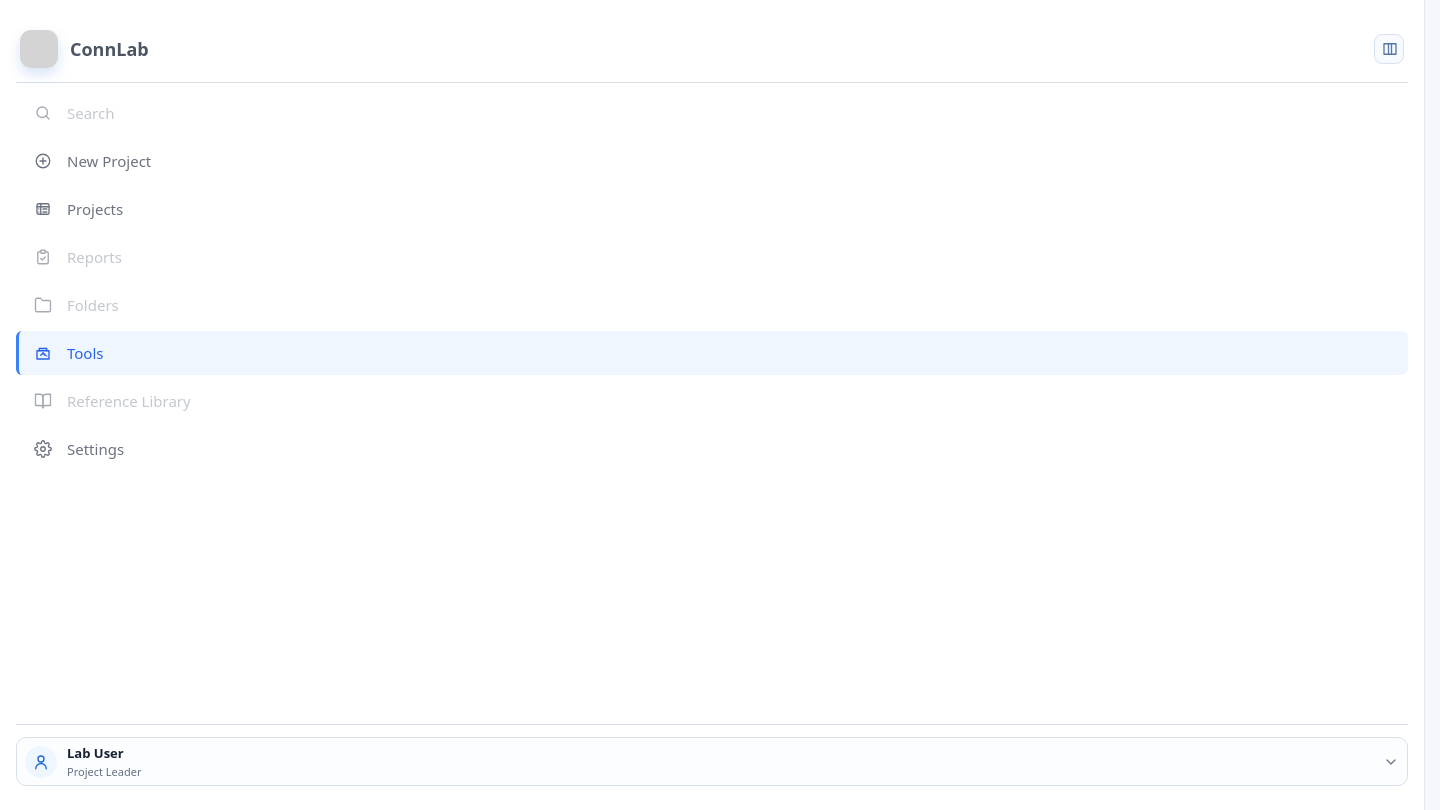
Sidebar interaction lock › opens the name editor directly and returns focus to the avatar after native Escape
The image size is (1440, 810).
Click the button "Lab User Project Leader". click: click(41, 762)
box: [16,737,1408,786]
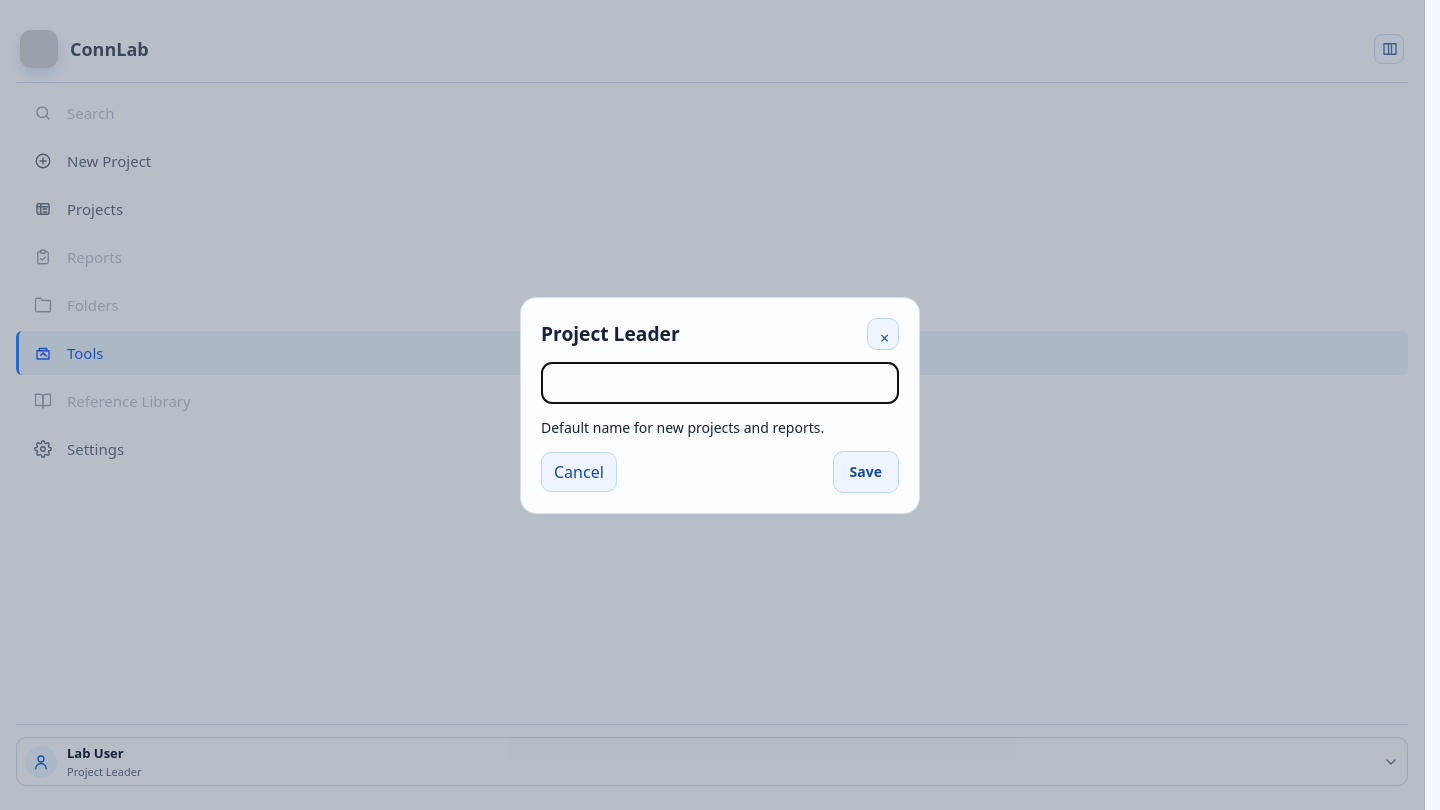
Result: the field labelled "Project Leader" is shown at [541,362,899,404]
Press Escape
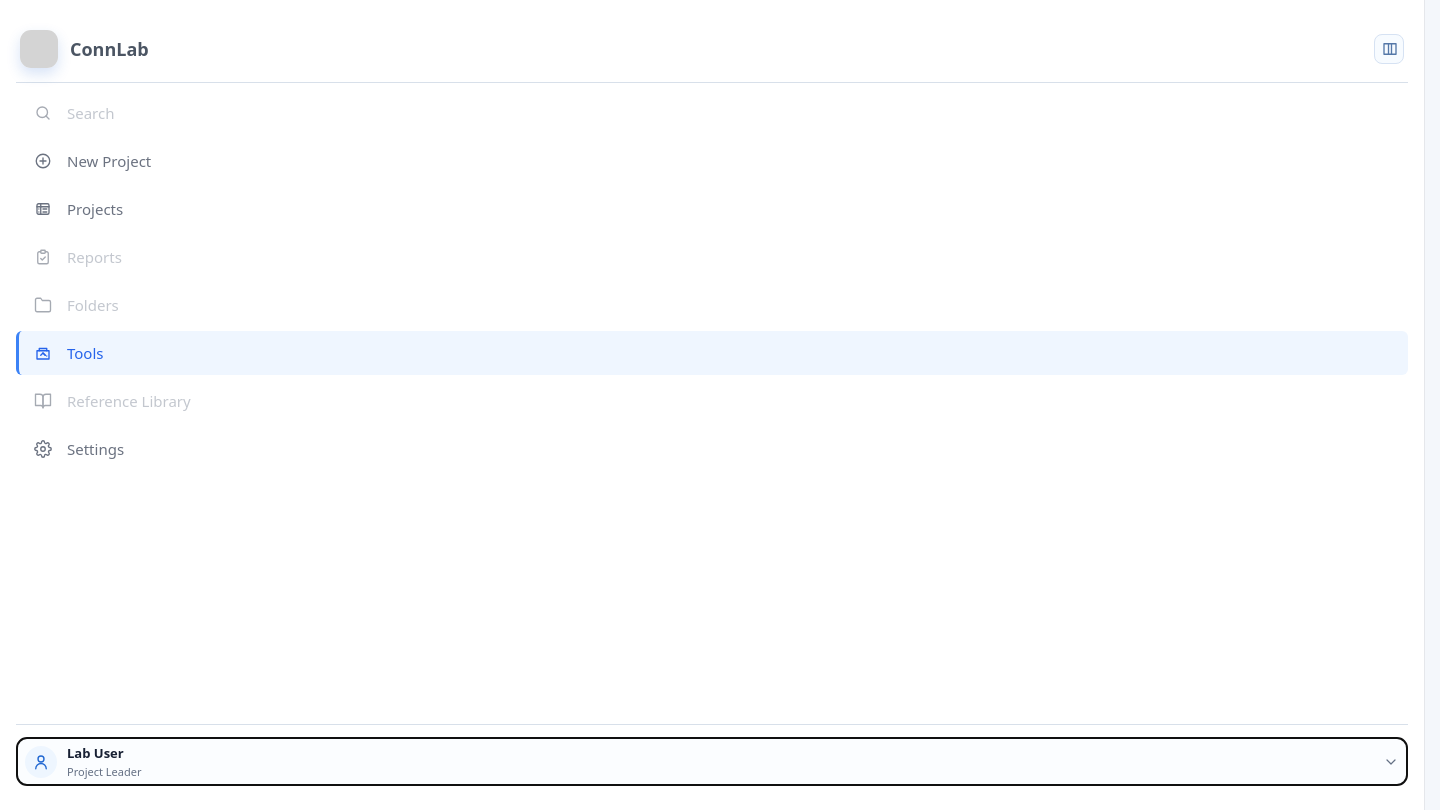
Result: the dialog is gone
